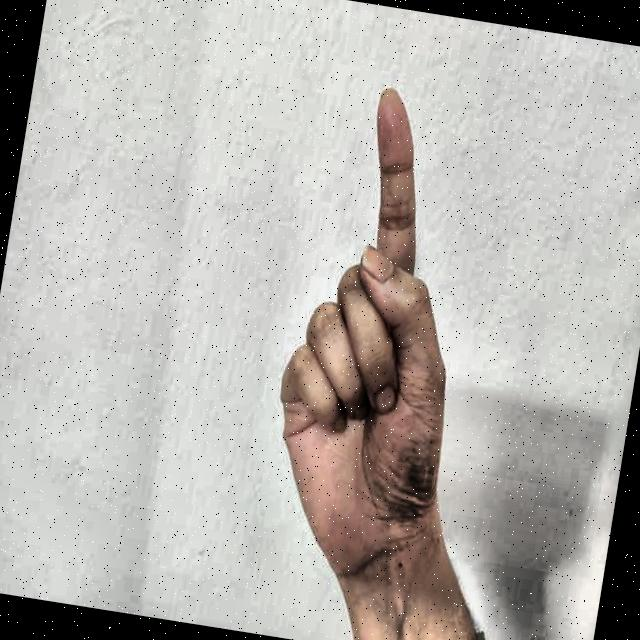U: (222, 41, 554, 590)
